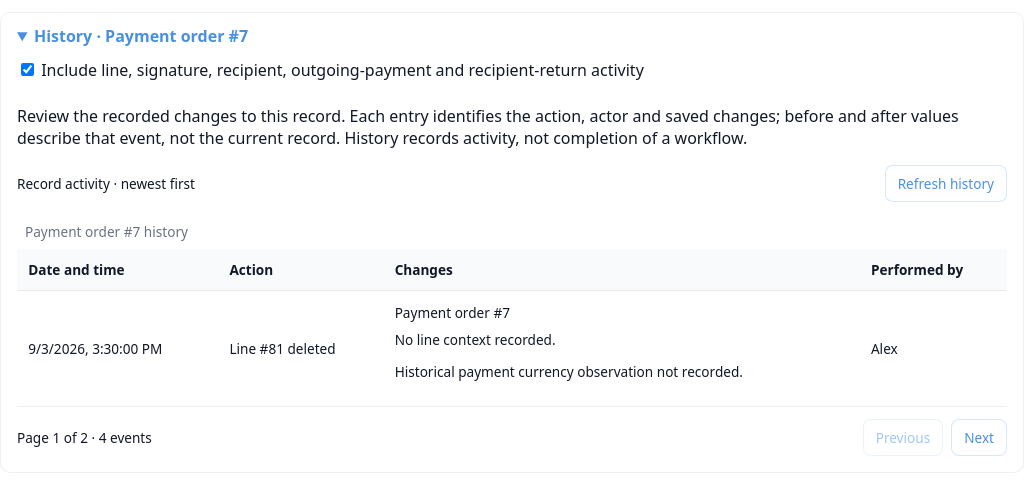
Scenario: payment-order history aggregates lines once and can return to exact header history
Expected: the text "Line #81 deleted" is shown, [218,291,384,406]
Expected: the number of rows is 2, [17,249,1007,291]; [17,291,1007,406]
Click the checkbox named "Include line, signature, recipient, outgoing-payment and recipient-return activity".
click(28, 70)  # box [21,63,34,76]
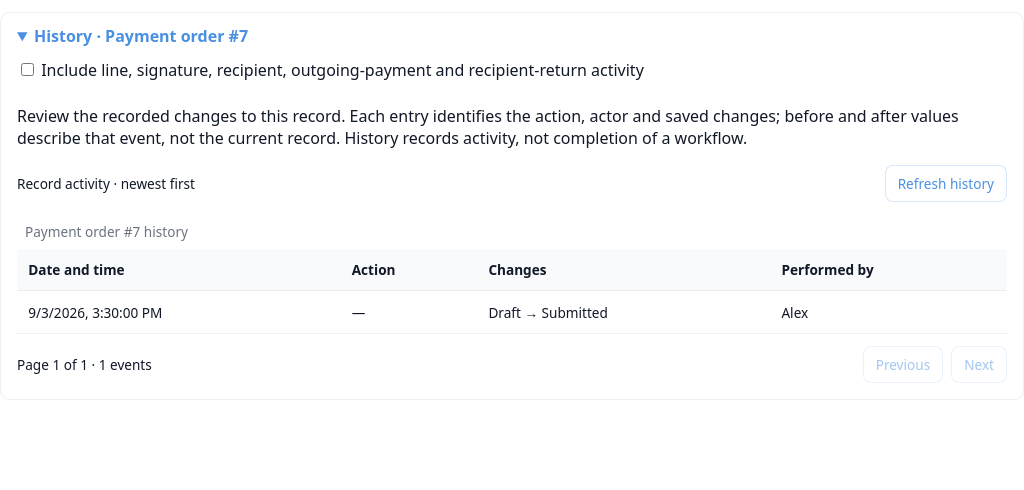
Expected: the text "Draft → Submitted" is shown, [477,291,770,333]
Expected: the text "Line #81 deleted" is gone
